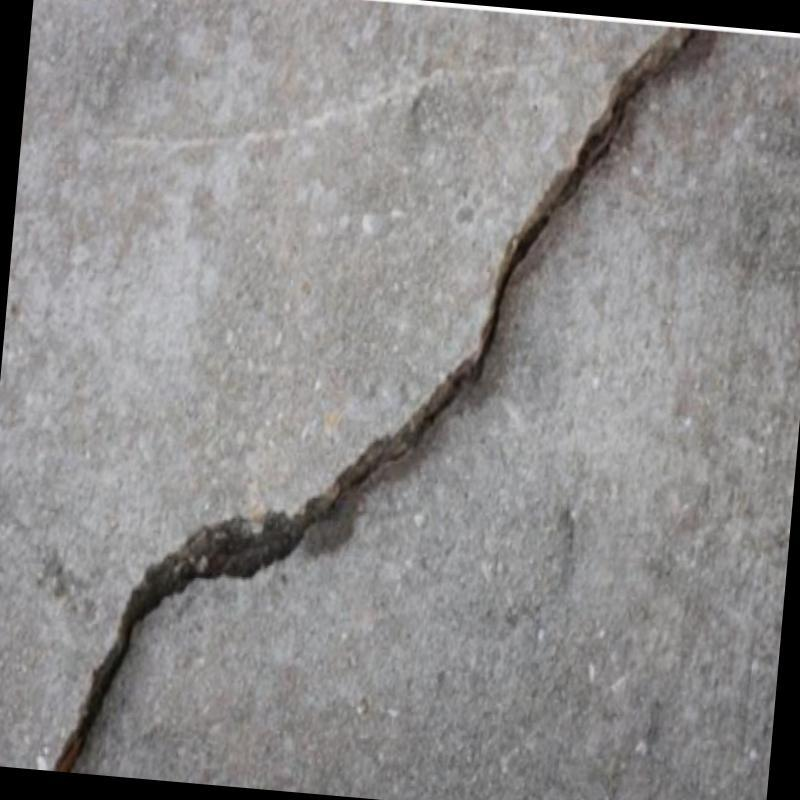crack: (54, 28, 697, 771)
